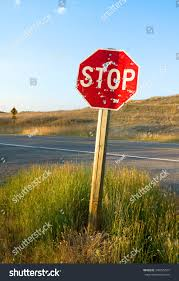Stop: (80, 45, 142, 114)
